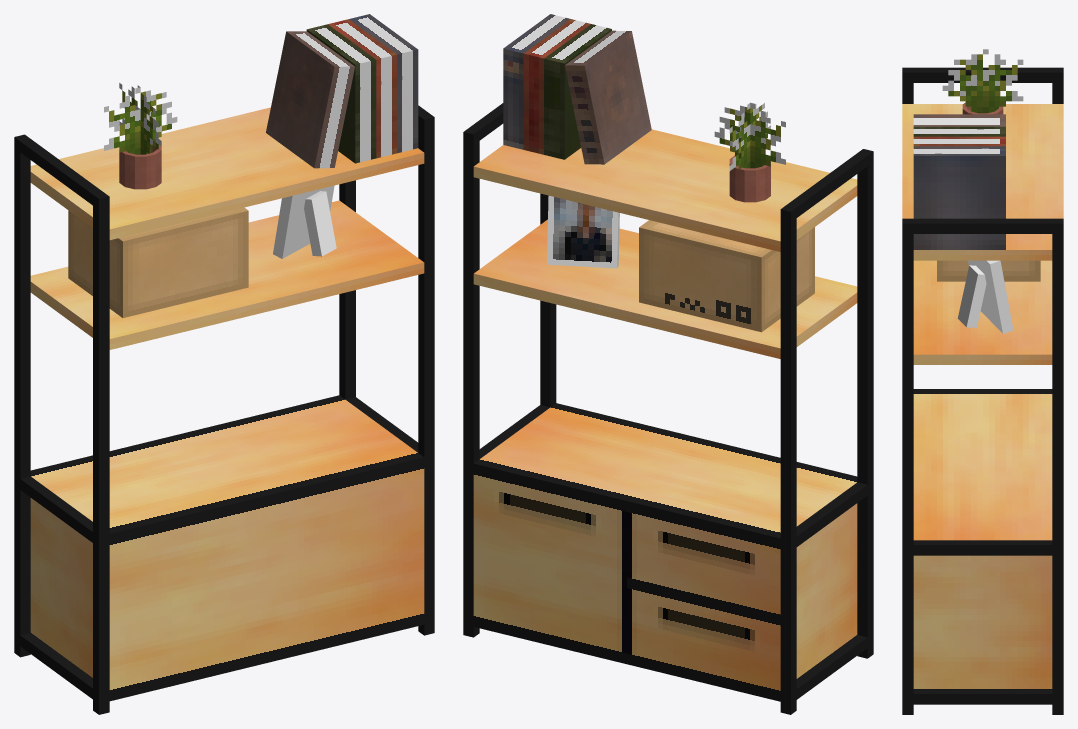
File: modern_wood_shelf.gltf
3 views of the same model, side by side, from view 1: azimuth 30°, elevation 25°; view 2: azimuth 150°, elevation 25°; view 3: azimuth 270°, elevation 25° (orthographic). The views are drawn at different scales.
Visible parts, largest first — view 1: mesh; view 2: mesh; view 3: mesh.
Boxes of the visible parts, left/top/right/bottom form: mesh: left=14, top=14, right=434, bottom=714; mesh: left=463, top=14, right=873, bottom=714; mesh: left=902, top=49, right=1063, bottom=714.
Size of the model in its own units: 2 by 3.38 by 0.875.
1 material, 1 textured.
